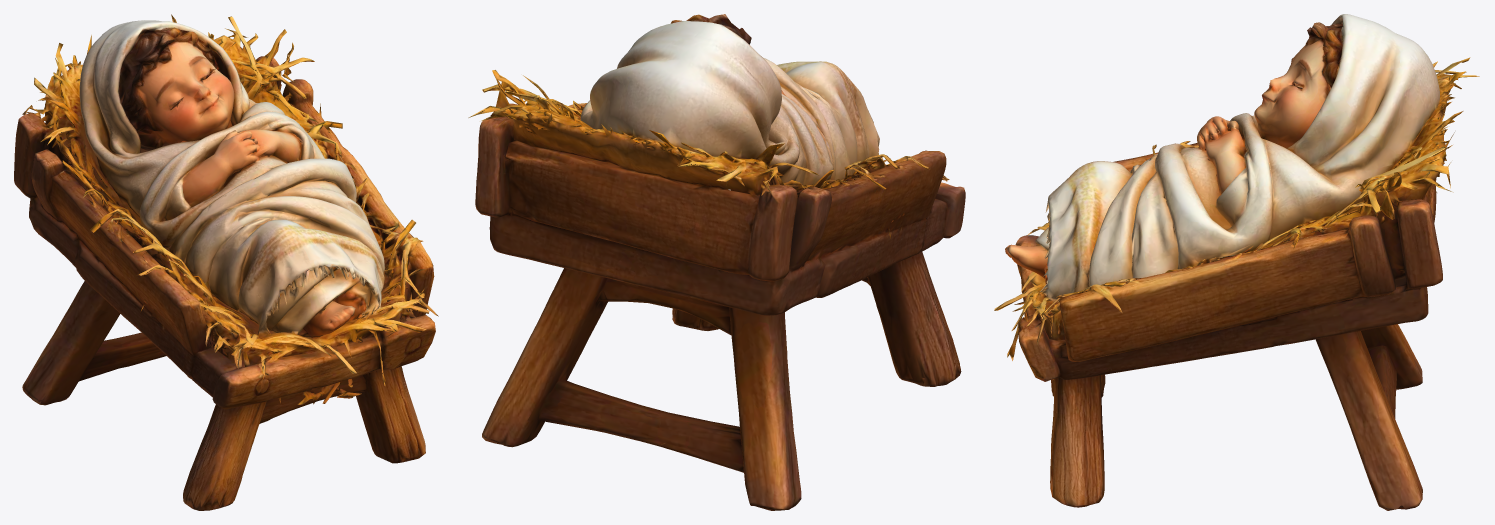
File: baby.glb
3 views of the same model, side by side, from view 1: azimuth 30°, elevation 25°; view 2: azimuth 150°, elevation 25°; view 3: azimuth 270°, elevation 25° (orthographic). The views are drawn at different scales.
Visible parts, largest first — view 1: tripo_node_7ca9e438-59a4-4ac3-8157-de94651eef33; view 2: tripo_node_7ca9e438-59a4-4ac3-8157-de94651eef33; view 3: tripo_node_7ca9e438-59a4-4ac3-8157-de94651eef33.
Boxes of the visible parts, x1=… form: tripo_node_7ca9e438-59a4-4ac3-8157-de94651eef33: x1=14, y1=14, x2=438, y2=510; tripo_node_7ca9e438-59a4-4ac3-8157-de94651eef33: x1=468, y1=14, x2=965, y2=510; tripo_node_7ca9e438-59a4-4ac3-8157-de94651eef33: x1=994, y1=14, x2=1479, y2=510.
Size of the model in its own units: 0.7244 by 0.9097 by 0.9785.
1 material, 1 textured.
